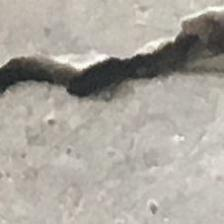Crack: (0, 7, 224, 128)
